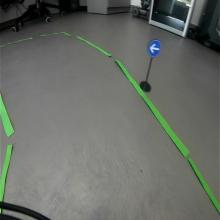left: (147, 38, 162, 57)
